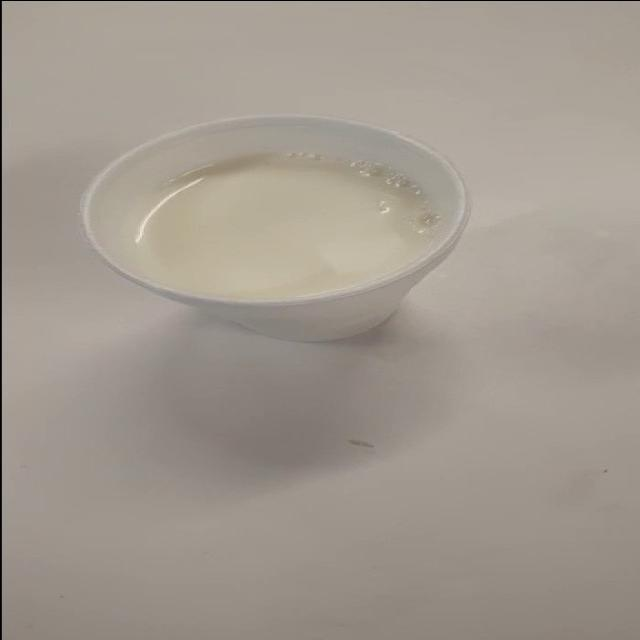Milk: (63, 102, 533, 369)
